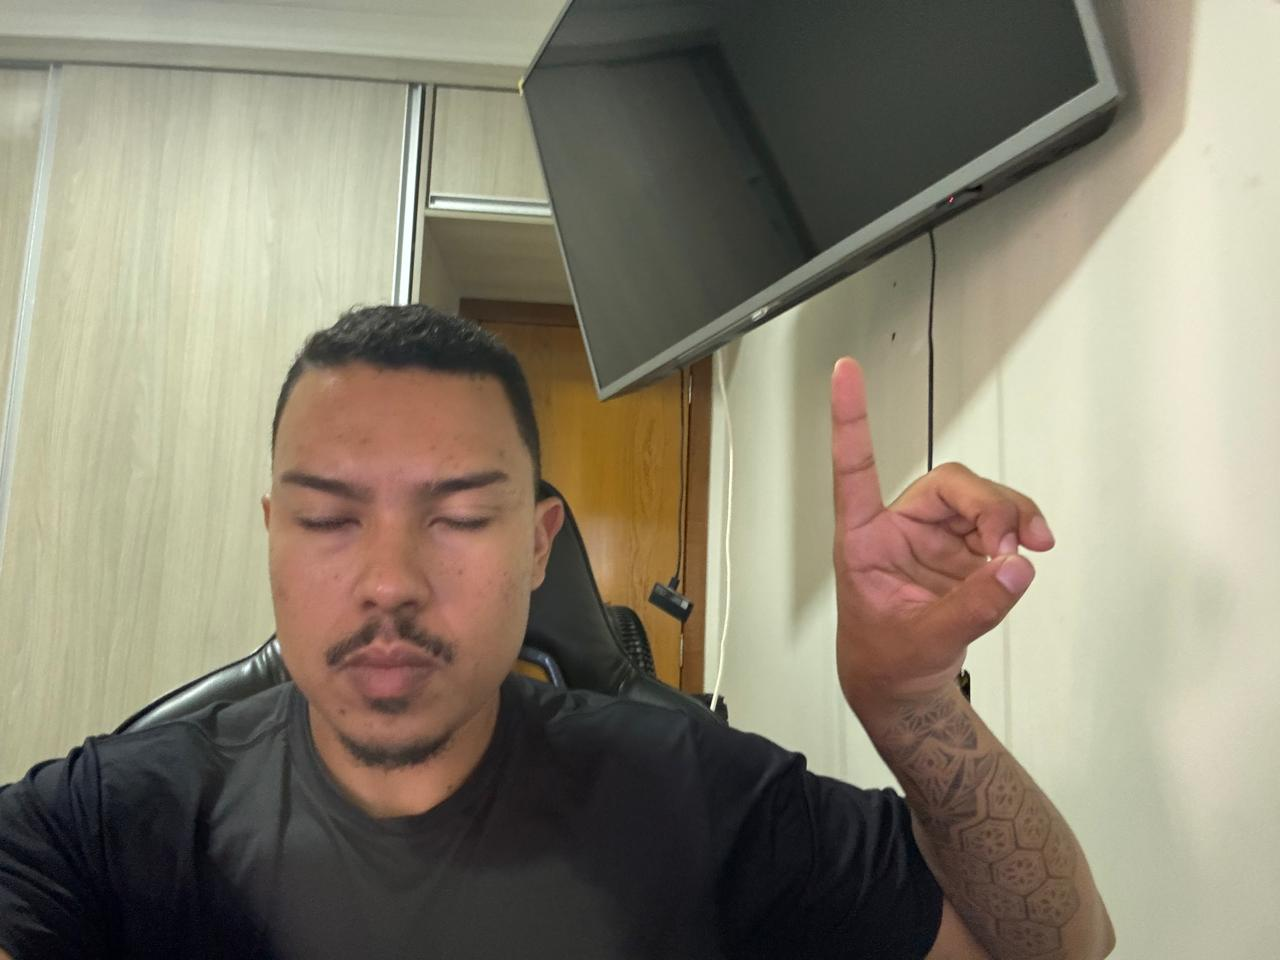d: (814, 346, 1060, 720)
